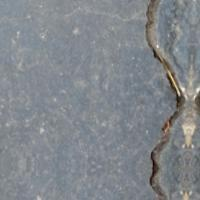crack: (117, 2, 199, 199)
